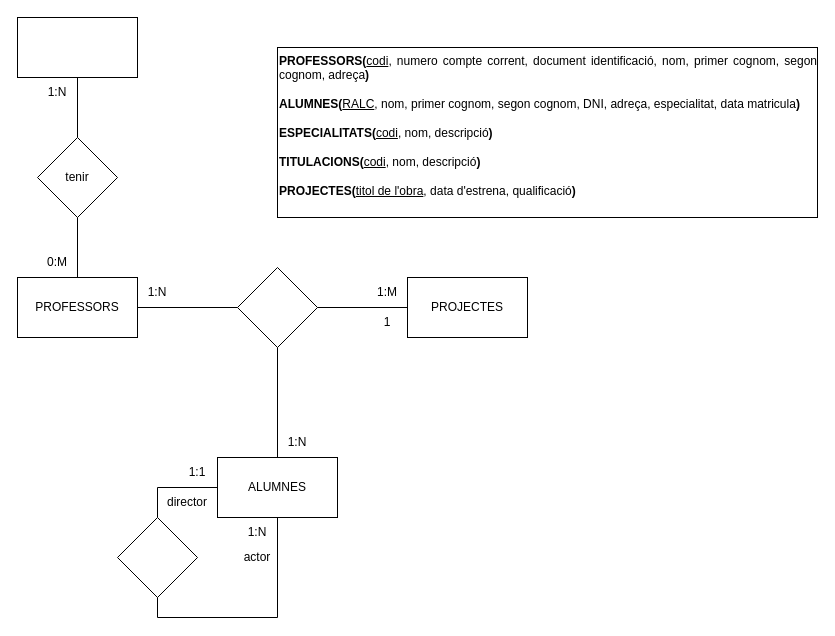
Some shapes in this 835 by 636 pixel diagram are drawn without their labels. Each missing label, with the centre of its shape:
dirigir: pixel 157 557
participar: pixel 277 307
TITULACIONS: pixel 77 47
